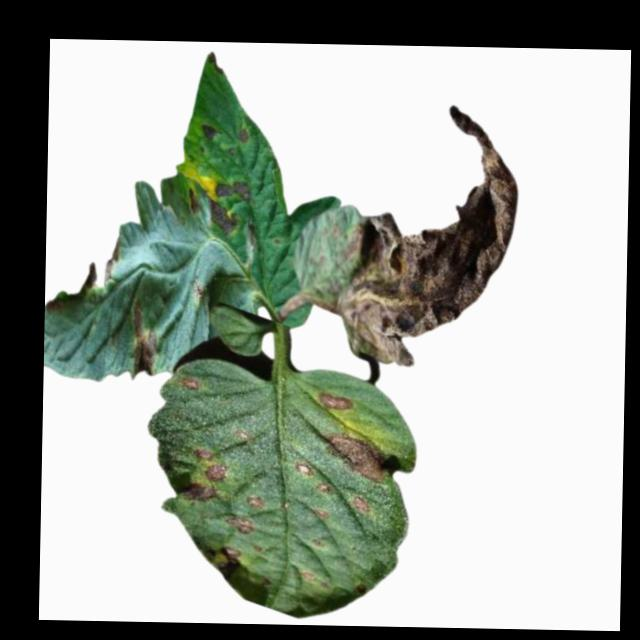Early_blight: (329, 98, 524, 365), (327, 432, 393, 478), (128, 299, 163, 377), (182, 442, 226, 499), (100, 233, 122, 289), (205, 200, 235, 237), (213, 180, 256, 201), (317, 390, 355, 410), (228, 513, 259, 535), (246, 492, 269, 510), (223, 545, 243, 565), (295, 460, 314, 477), (180, 377, 200, 393), (201, 120, 217, 140), (236, 126, 253, 144), (355, 496, 372, 512), (316, 482, 333, 493), (318, 506, 330, 517)
